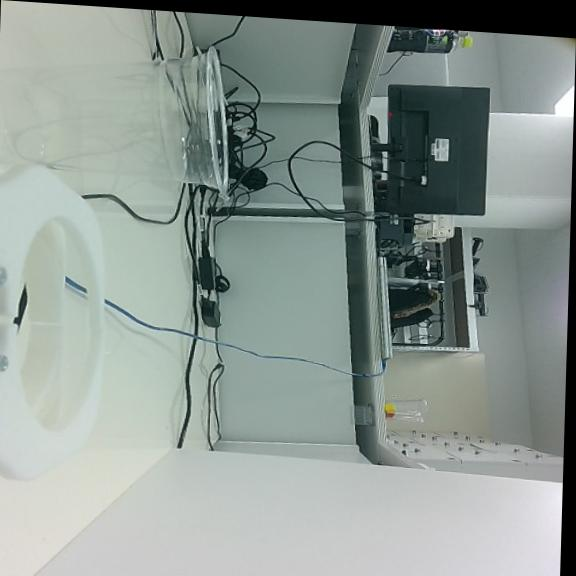Plastik: (0, 49, 226, 194)
